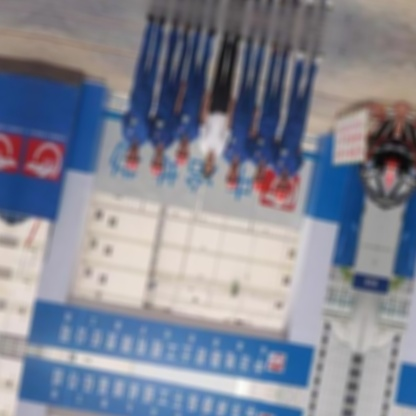red: (272, 187, 292, 207), (148, 161, 166, 181), (123, 156, 142, 174), (250, 179, 266, 195), (224, 176, 240, 192), (174, 152, 190, 168)
